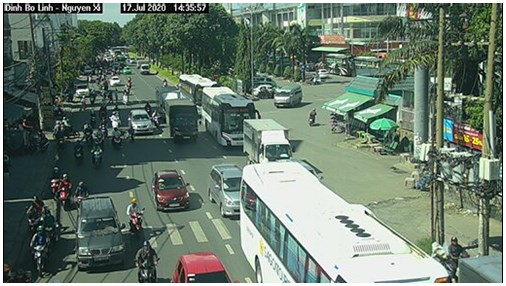xe_buyt: (240, 162, 450, 283), (201, 87, 255, 145)
xe_hoi: (74, 197, 128, 272), (172, 252, 238, 283), (207, 163, 241, 217), (151, 170, 190, 213), (128, 110, 155, 138), (76, 82, 89, 99), (109, 75, 122, 88), (123, 65, 133, 76)
xe_khach: (273, 82, 303, 110)
xe_may: (29, 226, 50, 278), (135, 240, 156, 283), (127, 197, 147, 240), (26, 196, 47, 232), (57, 173, 73, 210), (75, 180, 90, 213), (48, 166, 60, 198), (89, 142, 103, 168), (71, 140, 83, 165), (112, 126, 122, 151), (110, 111, 122, 130), (309, 106, 317, 126), (123, 87, 131, 104), (89, 109, 96, 128), (91, 86, 97, 104)
xe_tai: (241, 117, 296, 163), (164, 98, 201, 144)
